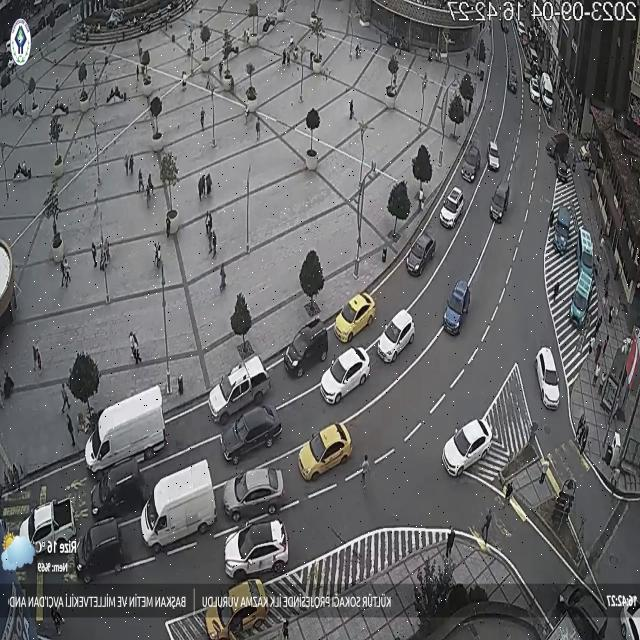car: (84, 385, 168, 476), (144, 457, 218, 547), (220, 458, 285, 524), (222, 400, 283, 462), (226, 517, 289, 576), (297, 426, 348, 485), (317, 351, 368, 408), (286, 318, 335, 376), (440, 420, 486, 480), (332, 294, 375, 344), (376, 309, 414, 364), (442, 278, 469, 338), (404, 231, 434, 282), (440, 186, 467, 235), (489, 176, 509, 226), (485, 137, 502, 173)
